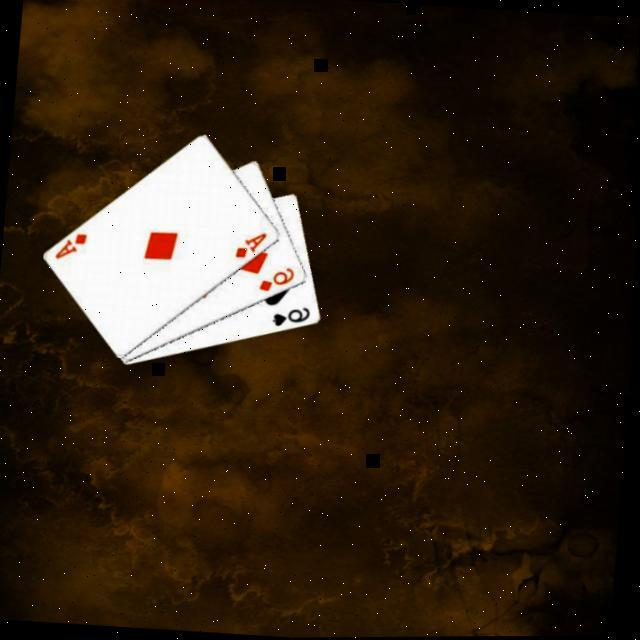6D: (254, 262, 296, 298)
6S: (268, 304, 312, 332)
AD: (230, 228, 268, 262), (51, 230, 88, 264)
